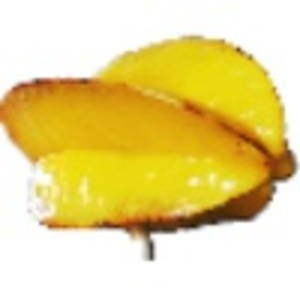carambola: (1, 33, 299, 260)
